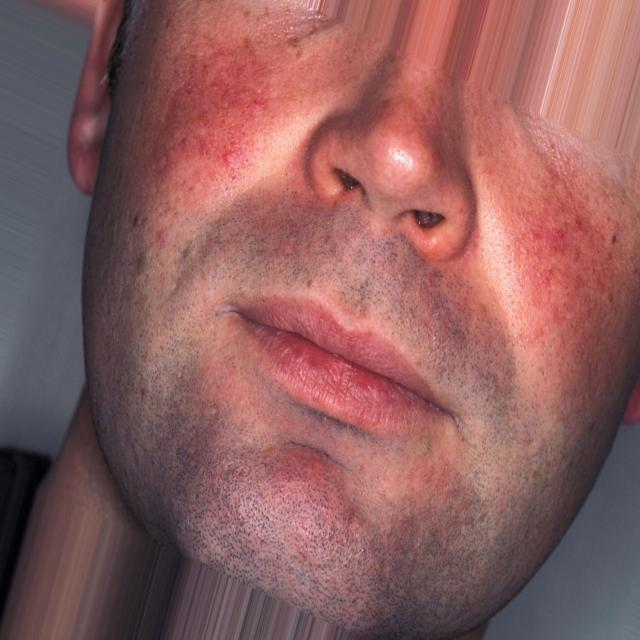Rosacea: (136, 34, 278, 204), (504, 143, 614, 338)
